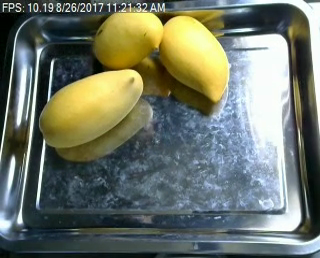Mango: (38, 68, 143, 147), (162, 15, 231, 100), (93, 9, 161, 68)
